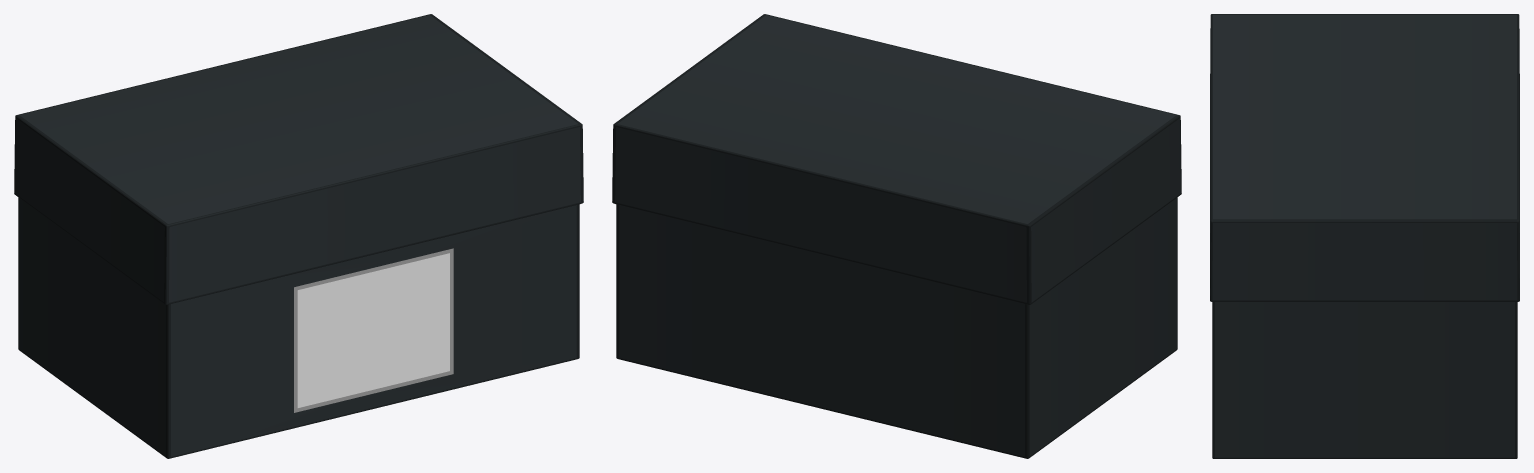
Rendered from Black Box W_Lid.fbx.
The picture shows the model from 3 angles, left to right: view 1: azimuth 30°, elevation 25°; view 2: azimuth 150°, elevation 25°; view 3: azimuth 270°, elevation 25°; orthographic projection.
Parts seen in each view (by area): view 1: Black Box w/Lid; view 2: Black Box w/Lid; view 3: Black Box w/Lid.
Boxes of the visible parts, box(x1,y1,x2,y2) form: Black Box w/Lid: box(14, 14, 583, 458); Black Box w/Lid: box(612, 14, 1181, 458); Black Box w/Lid: box(1210, 14, 1519, 458).
Bounding box in the file's own units: 220 × 258 × 410.
1 material, 1 textured.
